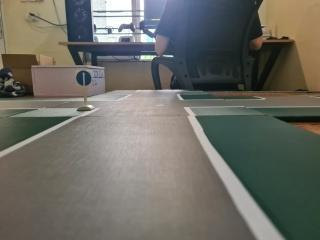straight: (75, 69, 93, 87)
